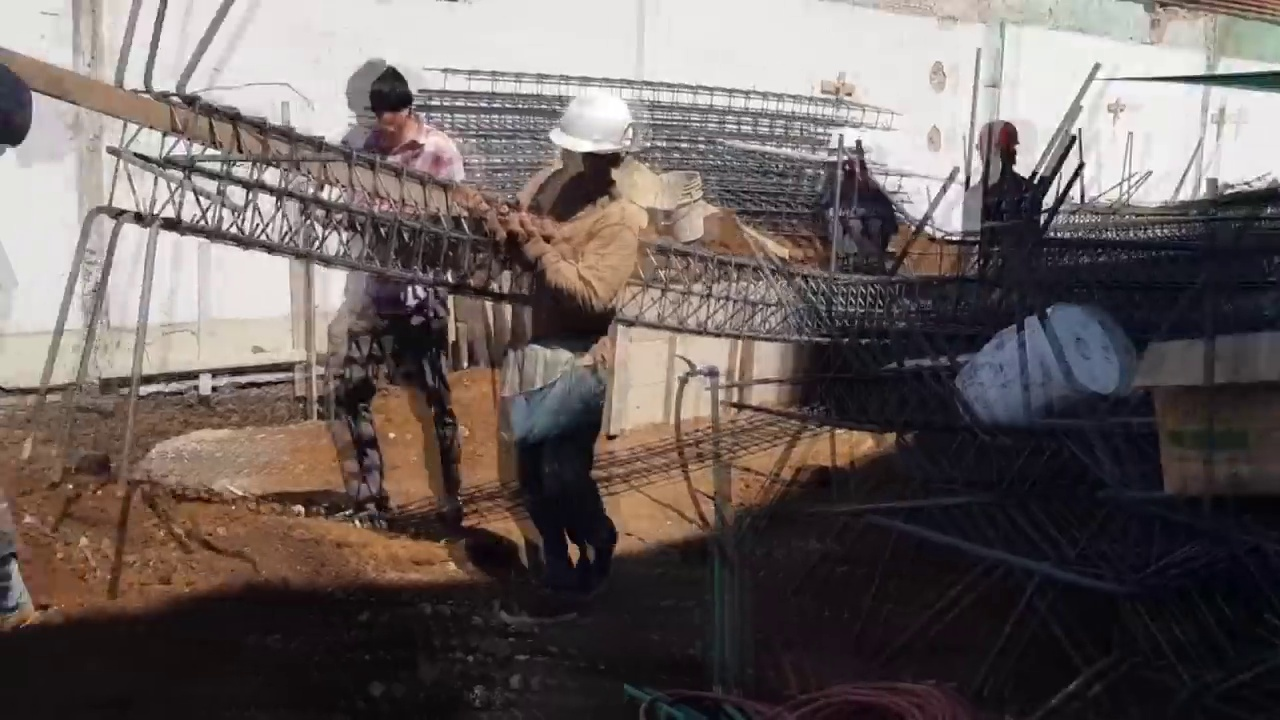helmet: (545, 84, 634, 157)
helmet-off: (354, 61, 419, 138), (984, 116, 1022, 170)
helmet-on: (545, 85, 635, 192)
person: (486, 86, 644, 627), (322, 86, 468, 556), (969, 124, 1040, 311)
